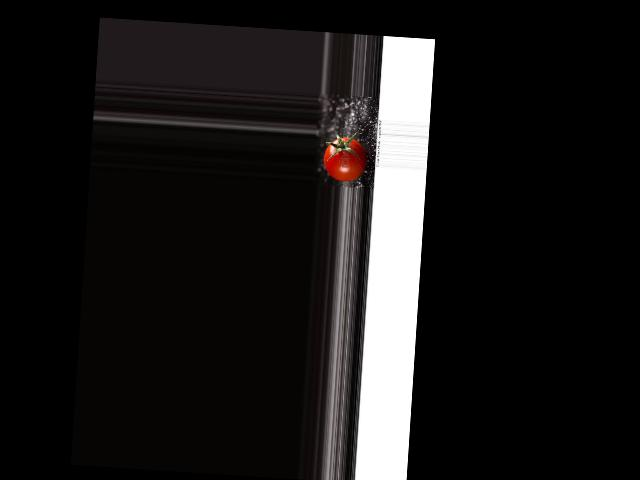tomato: (322, 136, 368, 182)
